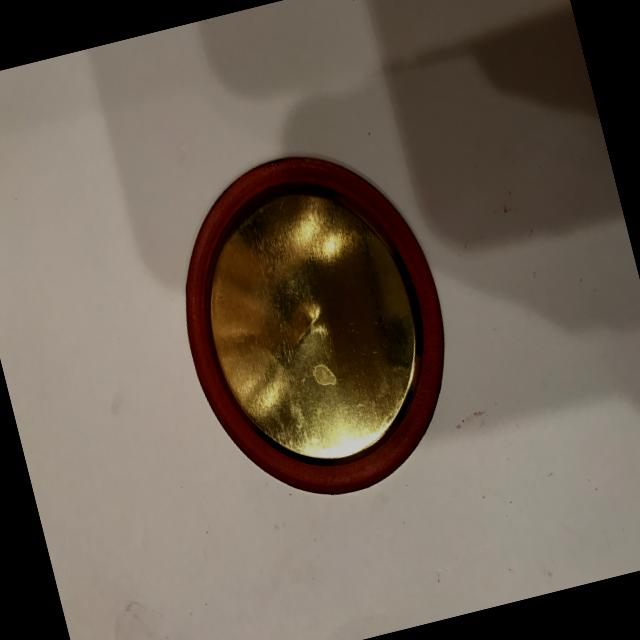Metal: (114, 108, 508, 560)
